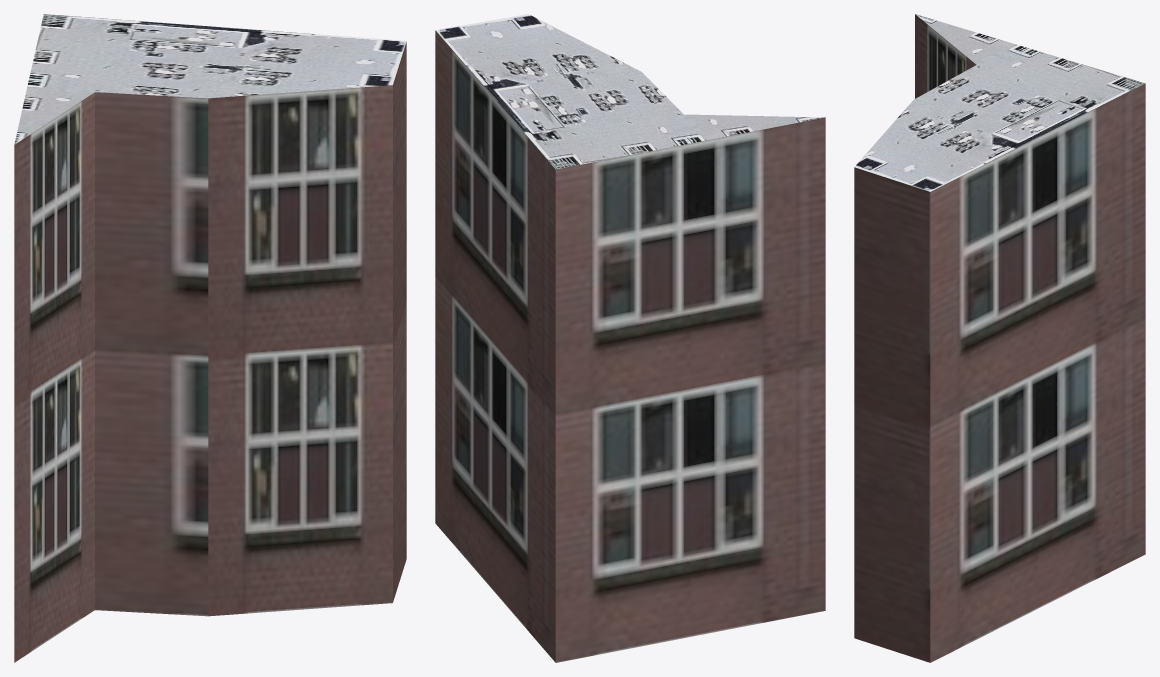
The model's file is ResTex__3701.fbx.
The picture shows the model from 3 angles, left to right: view 1: azimuth 30°, elevation 25°; view 2: azimuth 150°, elevation 25°; view 3: azimuth 270°, elevation 25°; orthographic projection. The views are drawn at different scales.
Visible parts, largest first — view 1: CityEngineMaterial_12_m, CityEngineMaterial_8_m; view 2: CityEngineMaterial_12_m, CityEngineMaterial_8_m; view 3: CityEngineMaterial_12_m, CityEngineMaterial_8_m.
Part boxes in pixels (x1,y1,x2,y2): CityEngineMaterial_12_m: (14,42,406,662); CityEngineMaterial_8_m: (14,14,406,144); CityEngineMaterial_12_m: (435,30,825,662); CityEngineMaterial_8_m: (435,14,824,169); CityEngineMaterial_12_m: (854,14,1145,662); CityEngineMaterial_8_m: (854,14,1144,191).
Size of the model in its own units: 4.86 by 6 by 3.36.
Materials: 2 (2 with a texture image).
